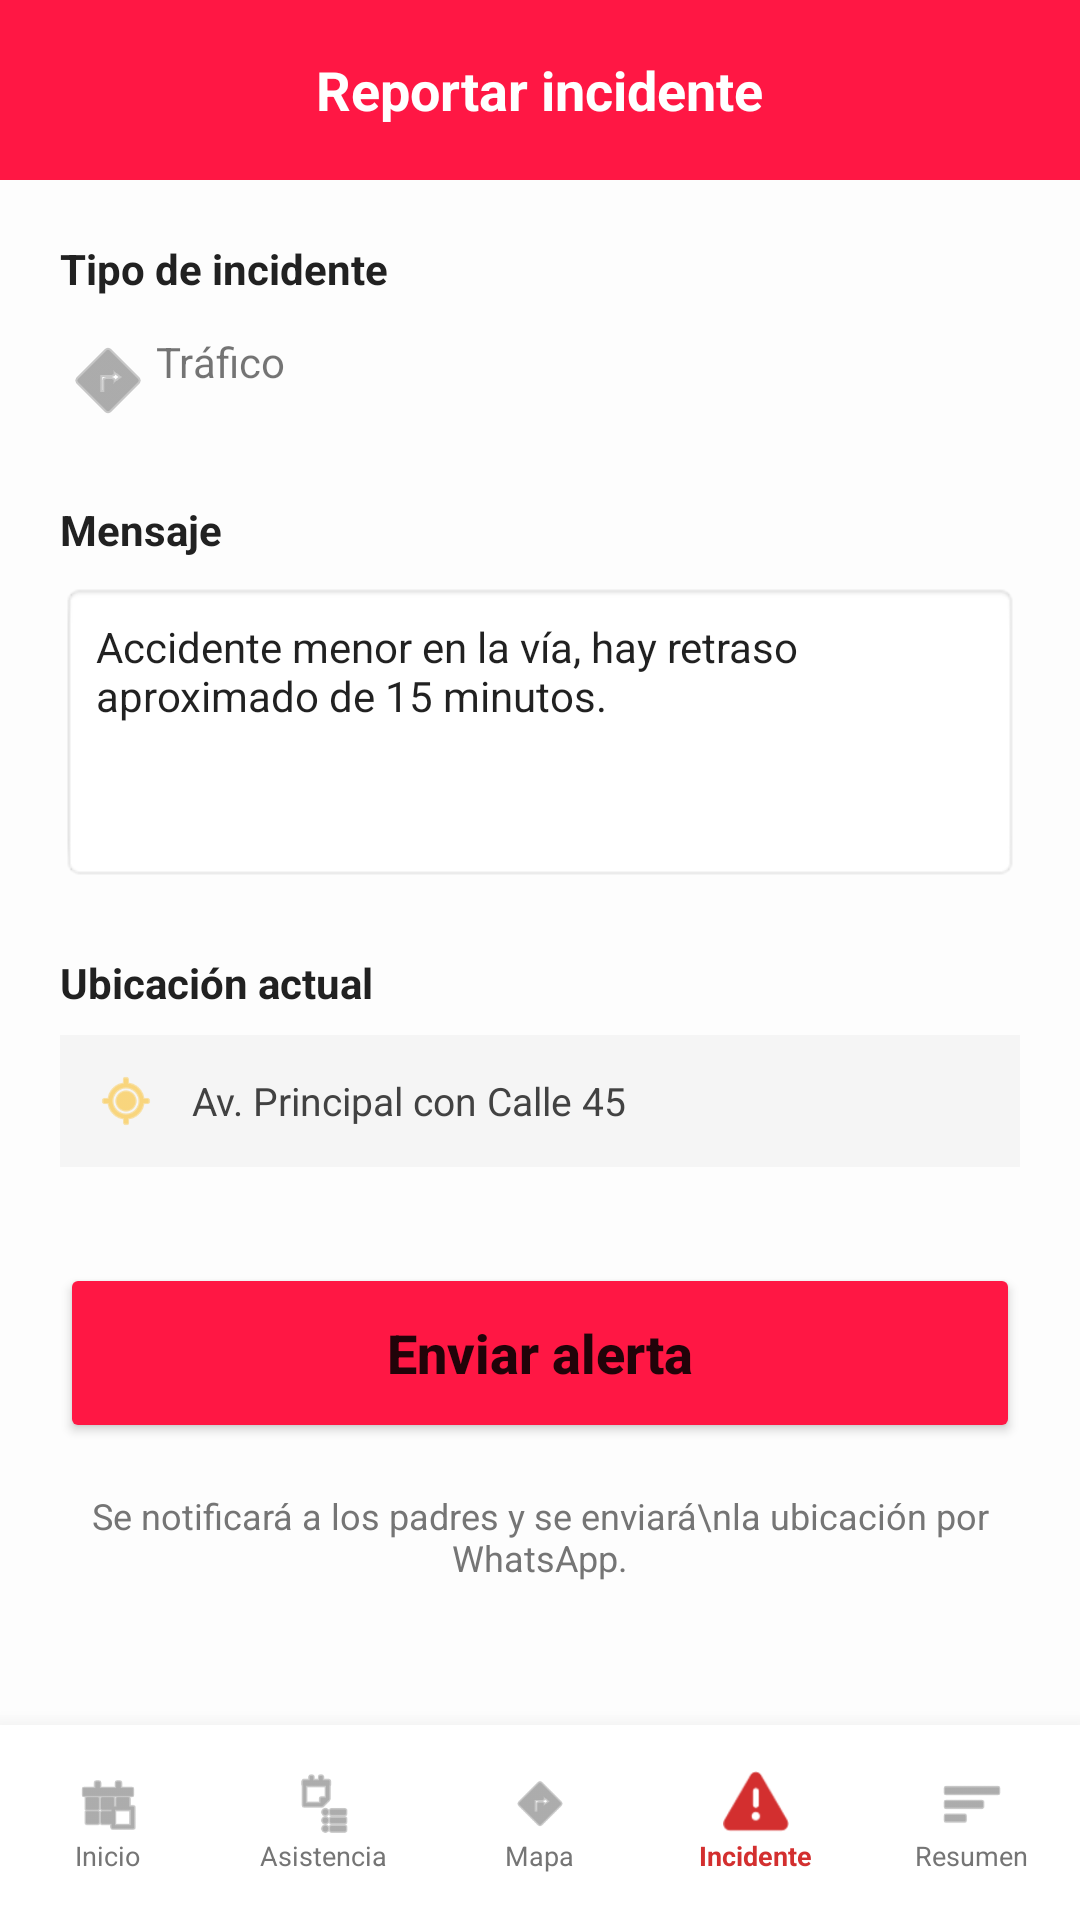

Named icons in this screenshot (1080 × 1920) and their bounding boxes, (x1, y1, x2, y2):
agenda: (301, 1774, 347, 1833)
alert: (723, 1771, 789, 1831)
directions: (75, 348, 141, 413), (517, 1781, 563, 1826)
mylocation: (102, 1077, 150, 1125)
sort by size: (944, 1786, 1000, 1823)
today: (82, 1780, 136, 1830)
